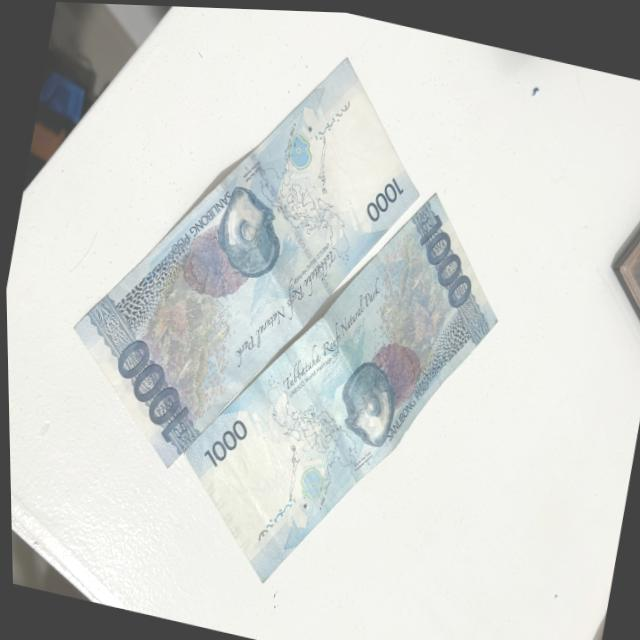1000_pearl: (213, 196, 290, 273), (335, 358, 402, 444)
1000_pearl_watermark: (284, 129, 316, 170), (294, 462, 325, 499)
